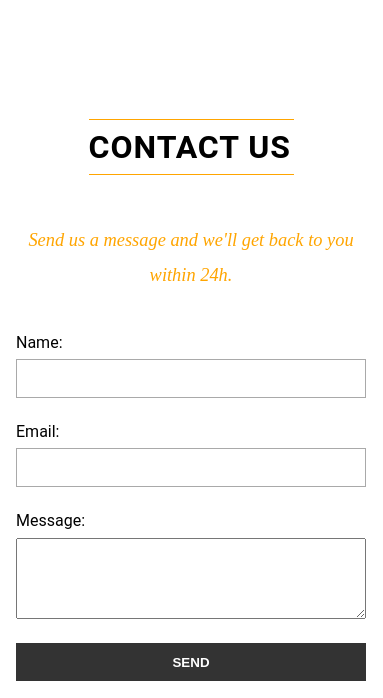
Test case: renders error message on fail
Type "James" into the field labelled "Name:".
click(191, 379); type("James")  # box [16,359,366,398]
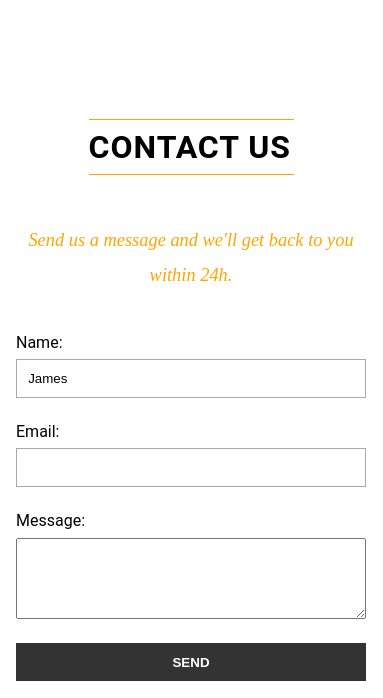
Type "cmioveanu@gmail.com" into the field labelled "Email:".
click(191, 468); type("cmioveanu@gmail.com")  # box [16,448,366,488]
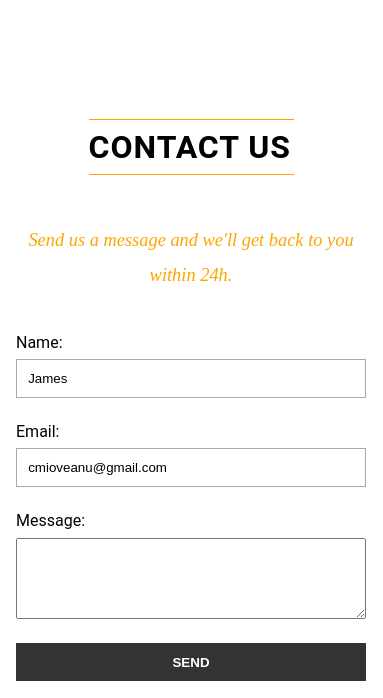
Type "Hello world!" into the text box labelled "Message:".
click(191, 579); type("Hello world!")  # box [16,538,366,620]
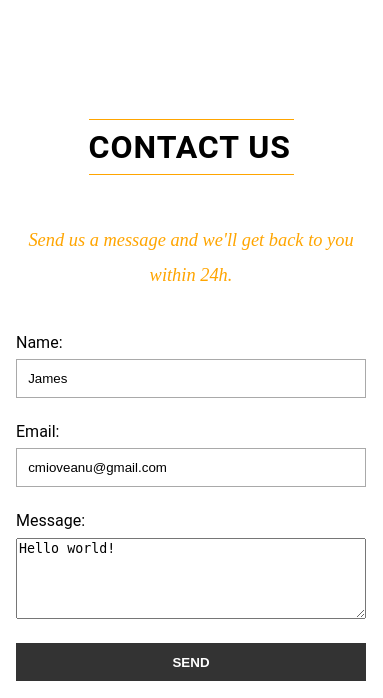
Click the button "Send".
click(191, 662)  # box [16,644,366,681]
(page scrolled)
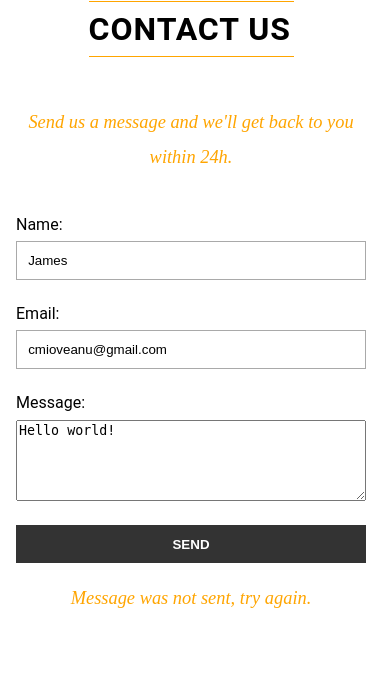
Check: the text "Message was not sent, try again." is shown, box [71,588,311,608]
